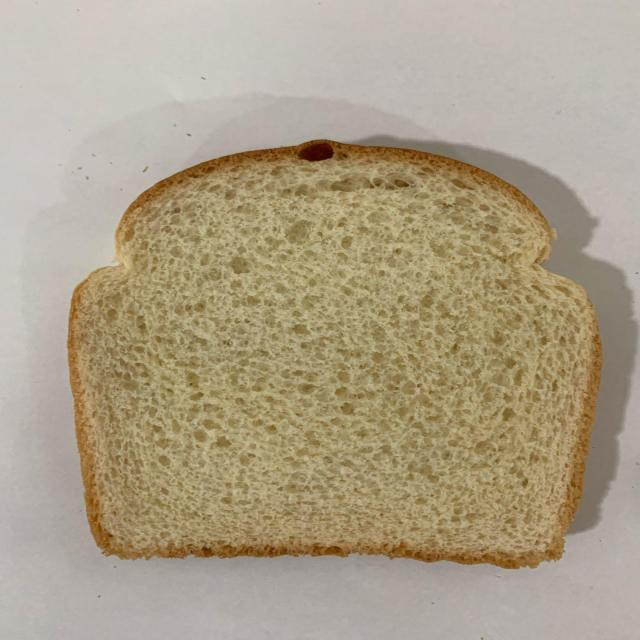pan: (69, 142, 600, 568)
